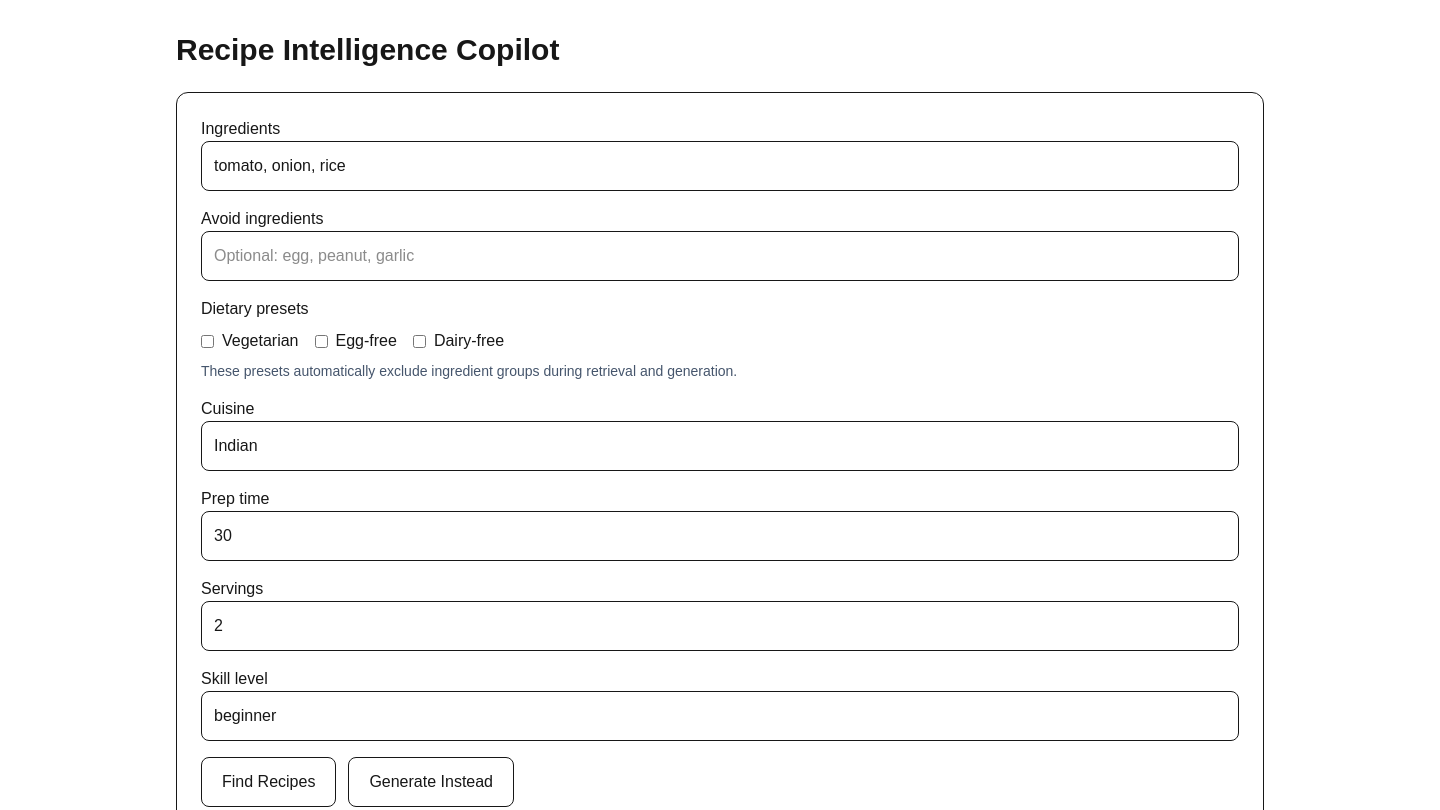
Scenario: Recipe page › shows retrieval confidence info
Replace the text in the field labelled "Ingredients" with "spinach, cheese" at [720, 166], box [201,141,1239,191]
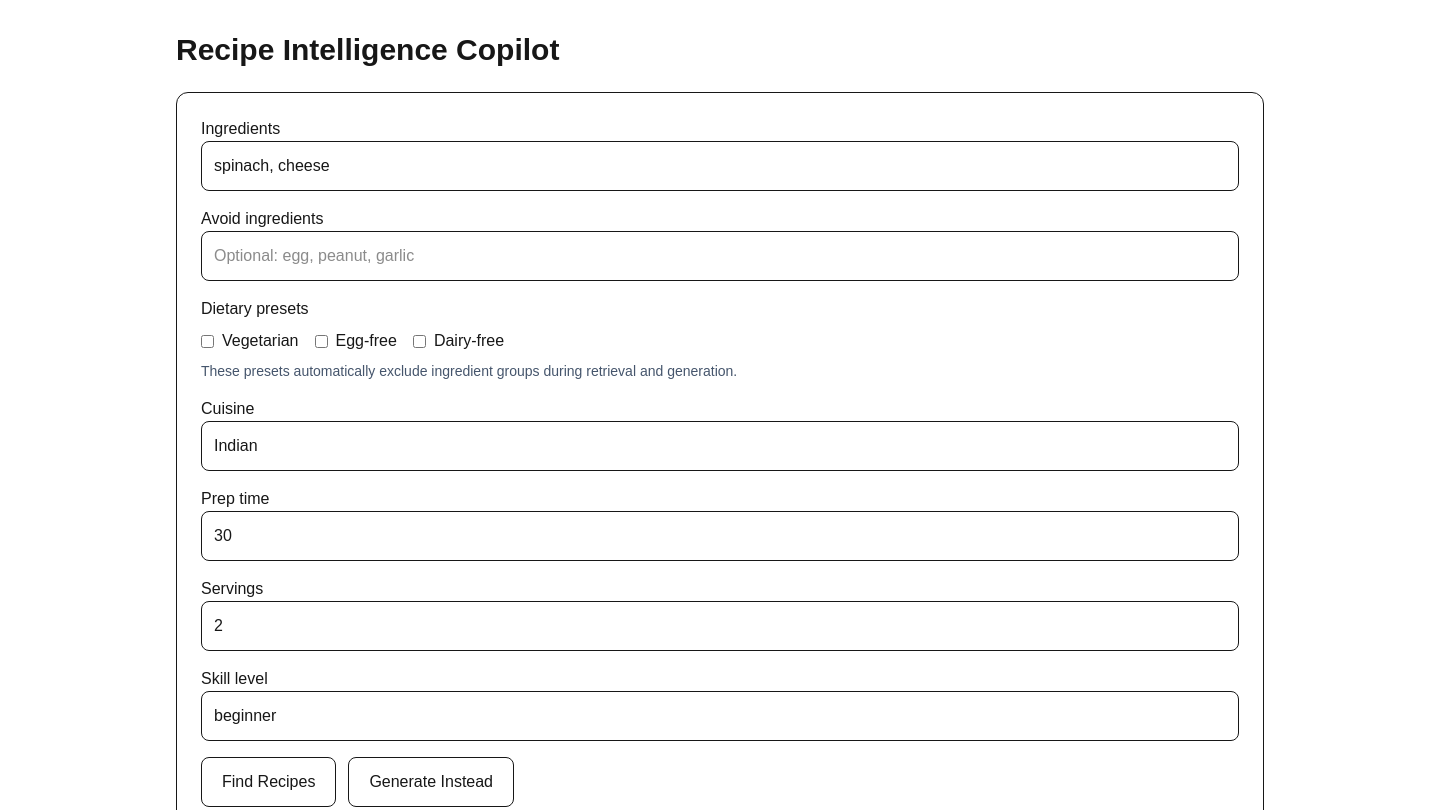
Click the button "Find Recipes" at [269, 782], box [201,757,336,807]
(page scrolled)
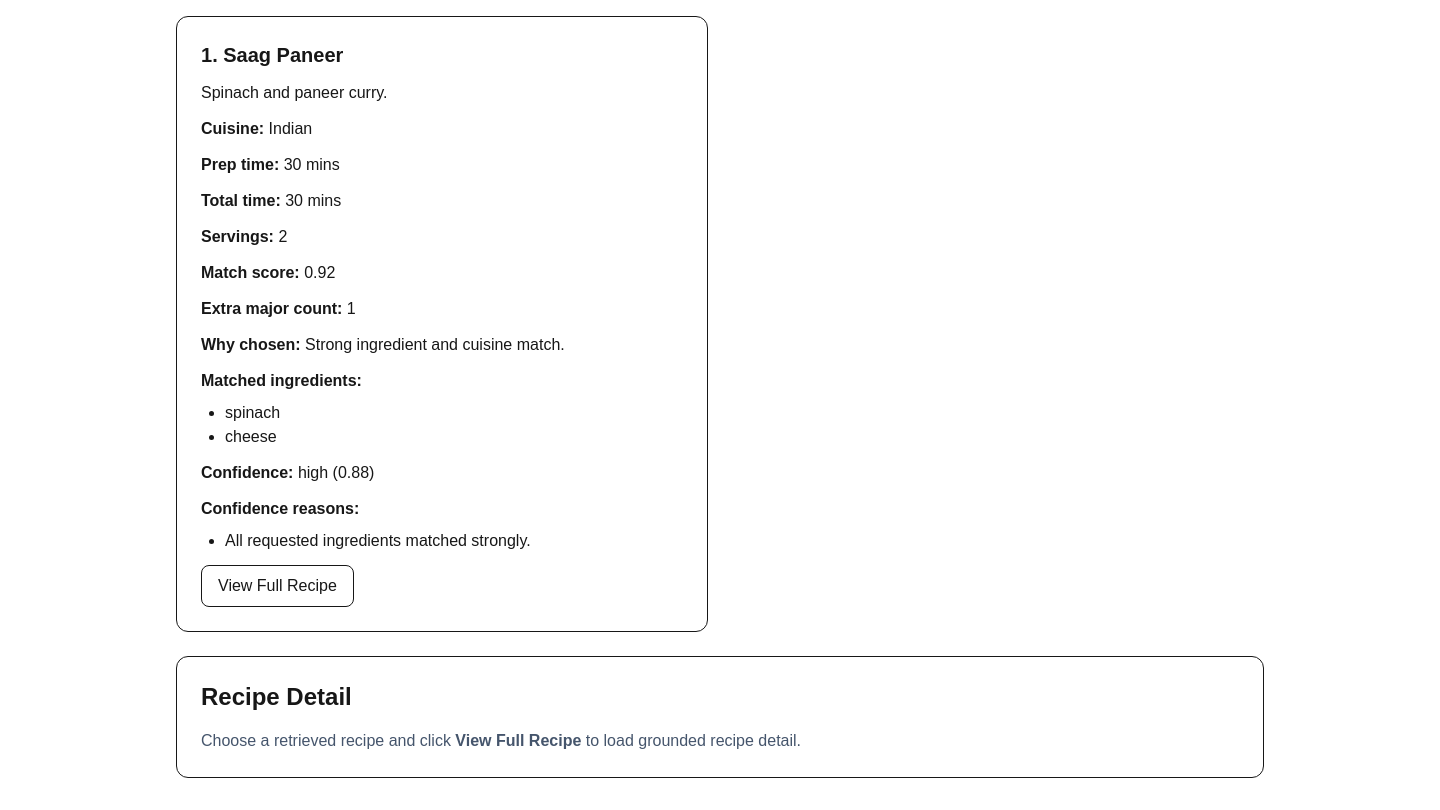
Expected: the heading "1. Saag Paneer" is shown, [201,44,343,66]
Expected: the element "Saag Paneer" is shown, [176,16,708,632]
Expected: the text "Confidence:" is shown, [201,464,294,481]
